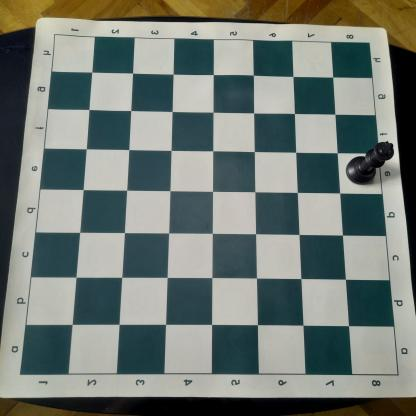black-king: (343, 140, 395, 186)
